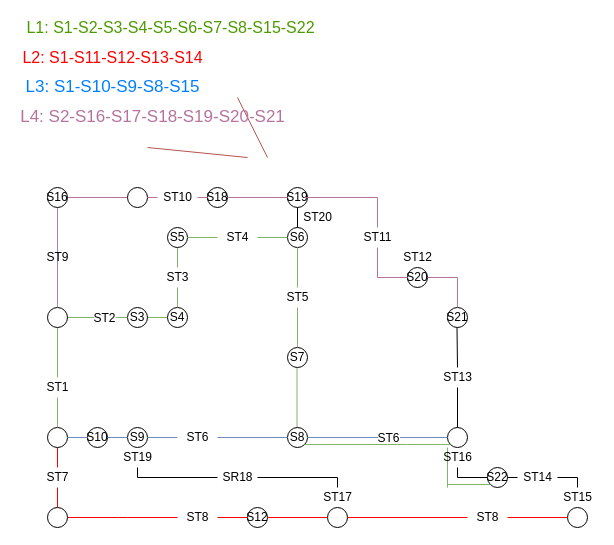
Image size: 614x545. Some labels were removed from this diagram. The shapes that lost their labels are listed below. From the top down, each one's box as (x1, y1, x2, y2) in pixels, then its label:
(126, 186, 148, 208): S17
(46, 306, 68, 328): S2
(46, 426, 68, 448): S1
(446, 426, 468, 448): S15
(46, 506, 68, 528): S11
(326, 506, 348, 528): S13
(566, 506, 588, 528): S14
